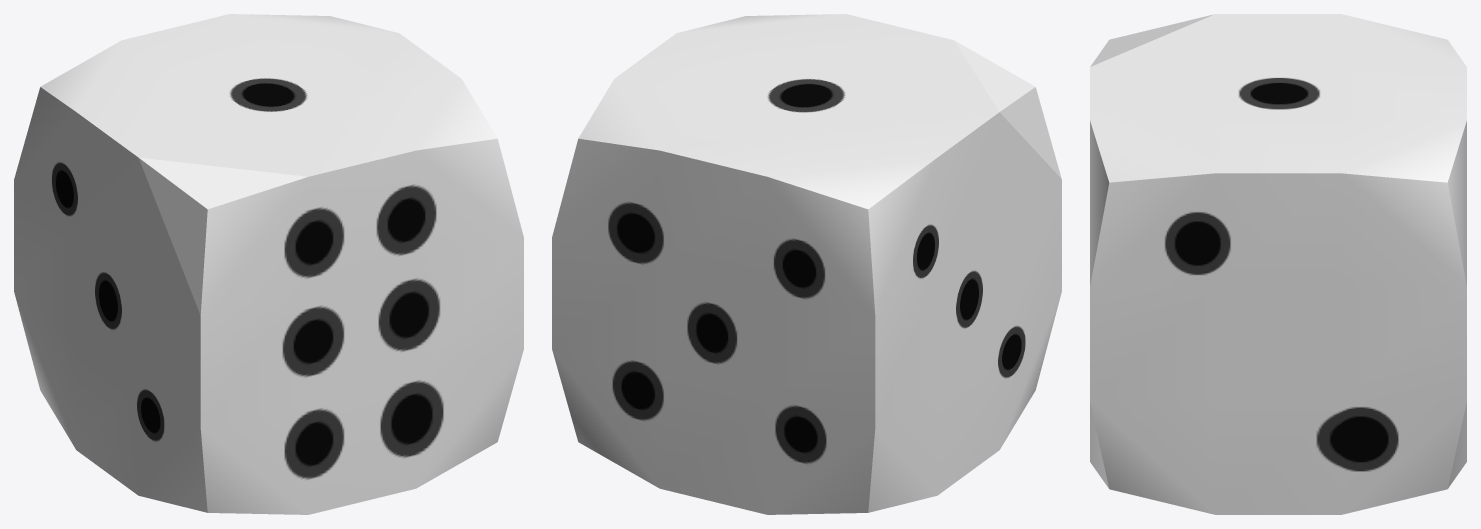
The model's file is DiceWhite.fbx.
3 renders of one model, left to right at view 1: azimuth 30°, elevation 25°; view 2: azimuth 150°, elevation 25°; view 3: azimuth 270°, elevation 25°, orthographic.
Visible parts, largest first — view 1: Dice; view 2: Dice; view 3: Dice.
Boxes of the visible parts, x1,y1,x2,y2 form: Dice: [14, 14, 523, 514]; Dice: [552, 14, 1061, 514]; Dice: [1090, 14, 1466, 514].
Size of the model in its own units: 1 by 1 by 1.
1 material, 1 textured.
